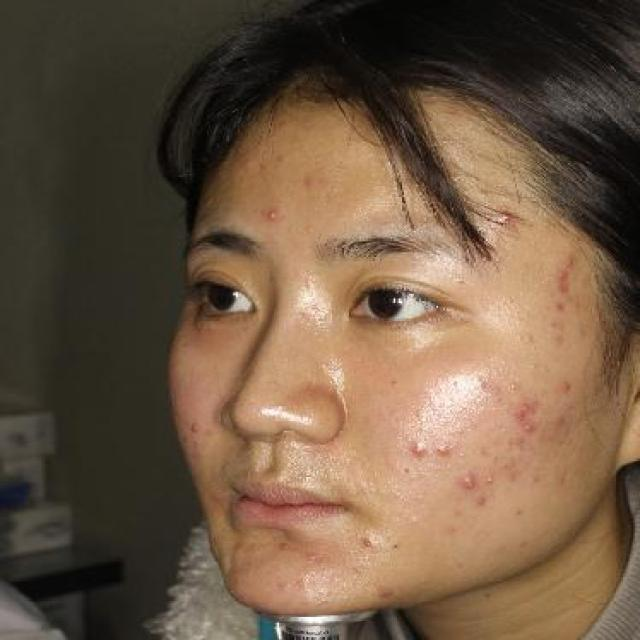papules: (489, 202, 522, 228), (404, 438, 431, 460), (358, 529, 378, 554), (182, 420, 206, 438)
pustules: (450, 465, 483, 497), (432, 438, 461, 462), (262, 200, 286, 228), (482, 472, 500, 486)
whiteheads: (469, 494, 489, 509)
